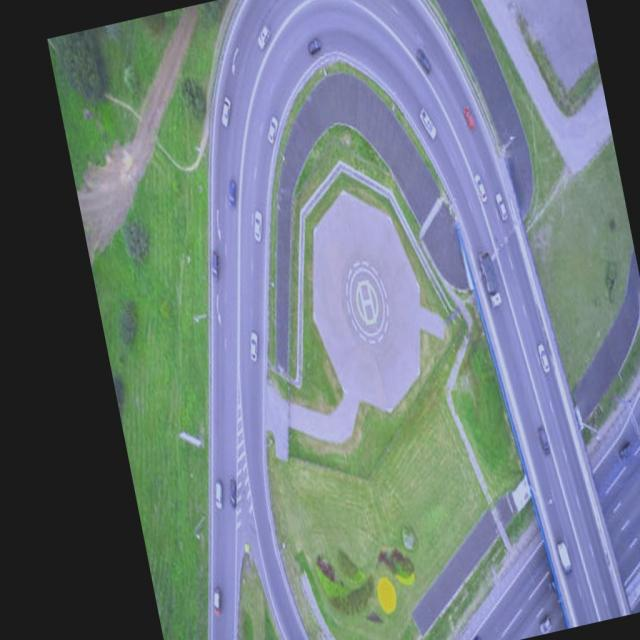helipad: (353, 278, 380, 326)
